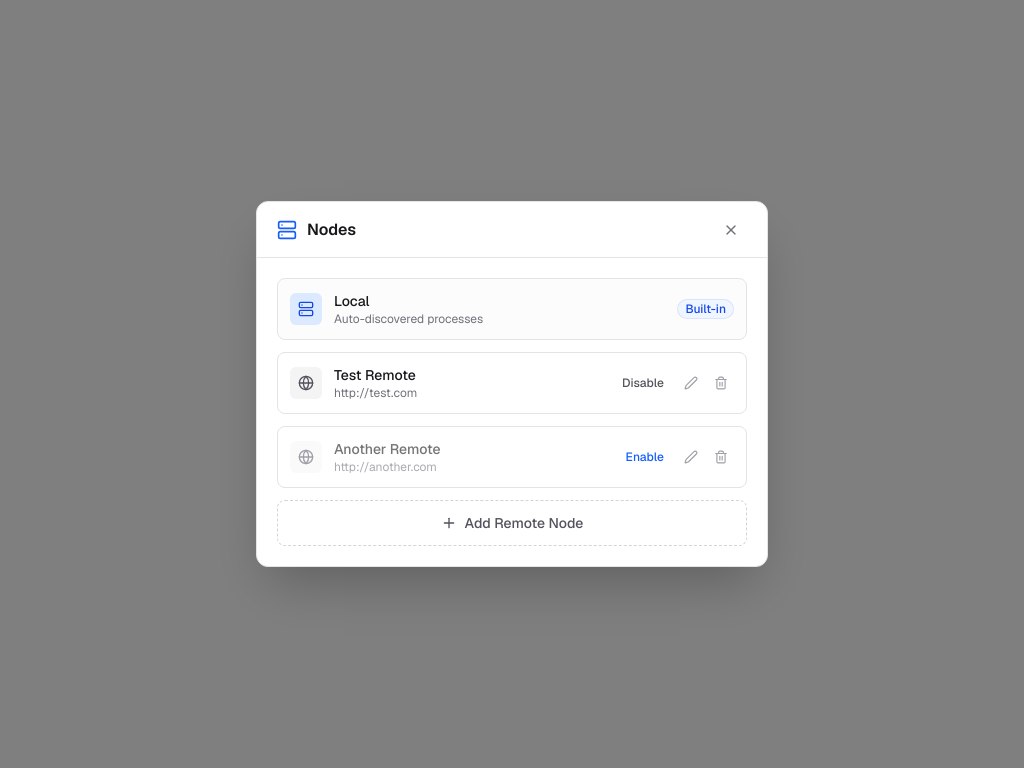
Scenario: HostManagerDialog › edits a remote node
Click the button named "edit node" in the row of "http://test.com": coordinates (691, 383) [678, 370, 704, 396]
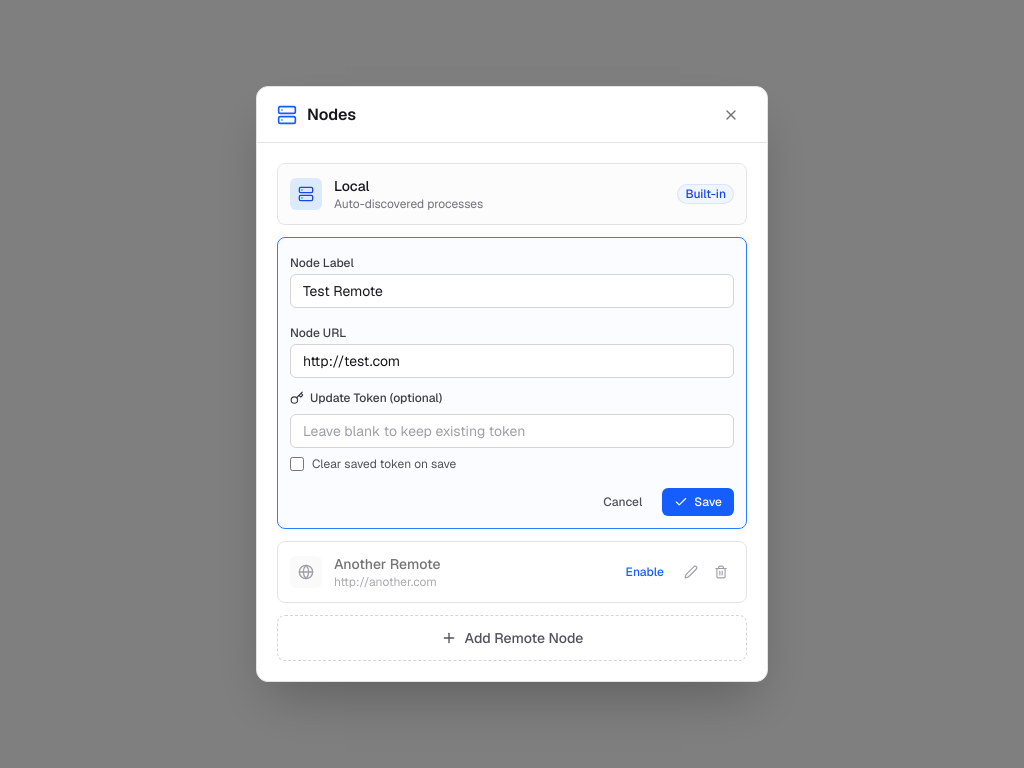
Replace the text in the field with test id "host-form-label" with "Updated Host": coordinates (512, 291) [290, 274, 734, 308]
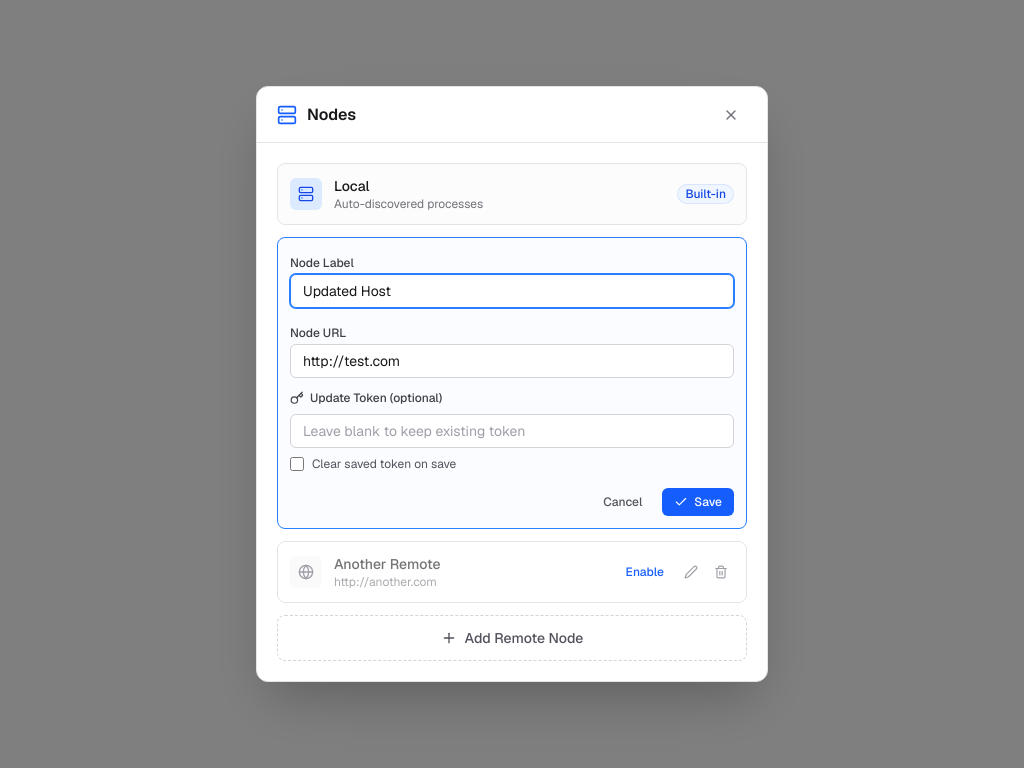
Click the button "Save": coordinates (698, 502) [662, 488, 734, 516]
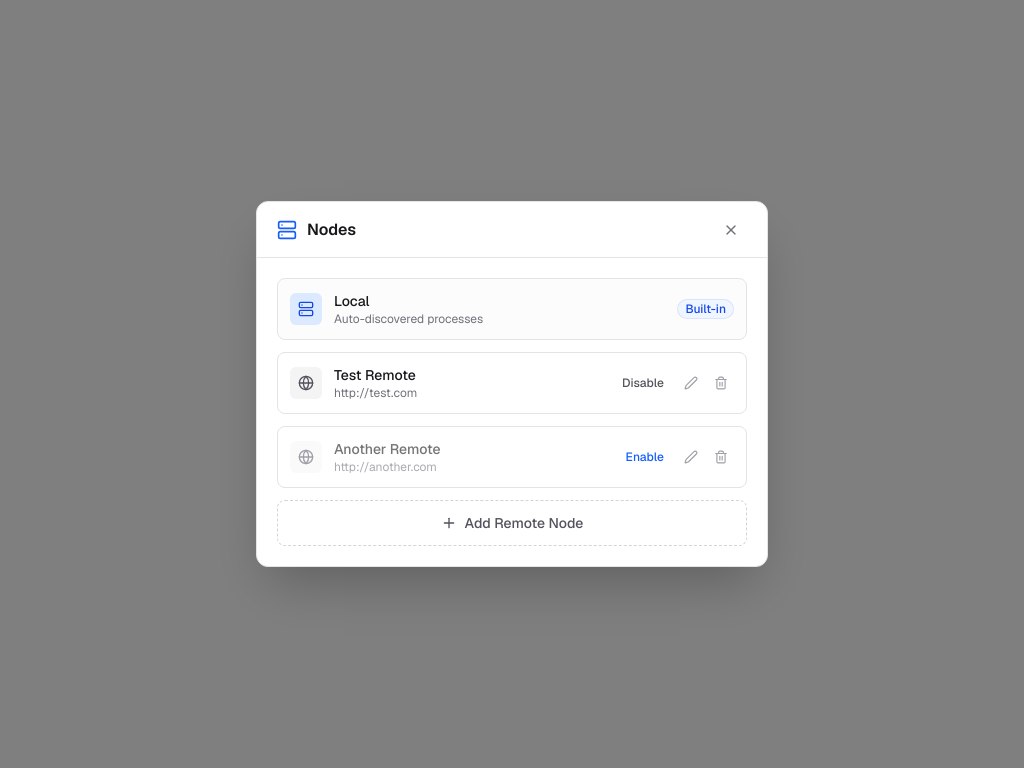
Expected: the text "http://test.com" is shown, [334, 385, 417, 401]
